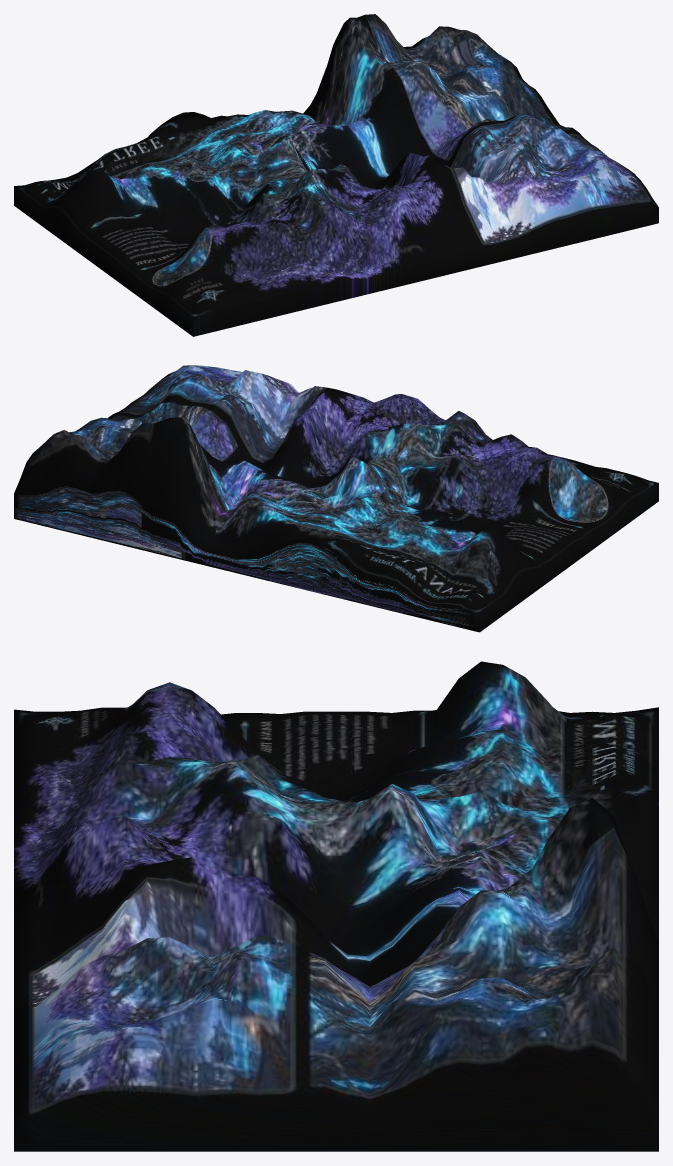
Rendered from TREE_01_Mana_Tree.glb.
3 renders of one model, top to bottom at view 1: azimuth 30°, elevation 25°; view 2: azimuth 150°, elevation 25°; view 3: azimuth 270°, elevation 25°, orthographic. The views are drawn at different scales.
Parts seen in each view (by area): view 1: TREE_01_Mana_Tree; view 2: TREE_01_Mana_Tree; view 3: TREE_01_Mana_Tree.
Boxes of the visible parts, bbox=[...] form: TREE_01_Mana_Tree: bbox=[14, 14, 658, 336]; TREE_01_Mana_Tree: bbox=[14, 365, 658, 632]; TREE_01_Mana_Tree: bbox=[14, 661, 658, 1151].
Bounding box in the file's own units: 2 × 0.51 × 1.33.
Materials: 1 (1 with a texture image).
